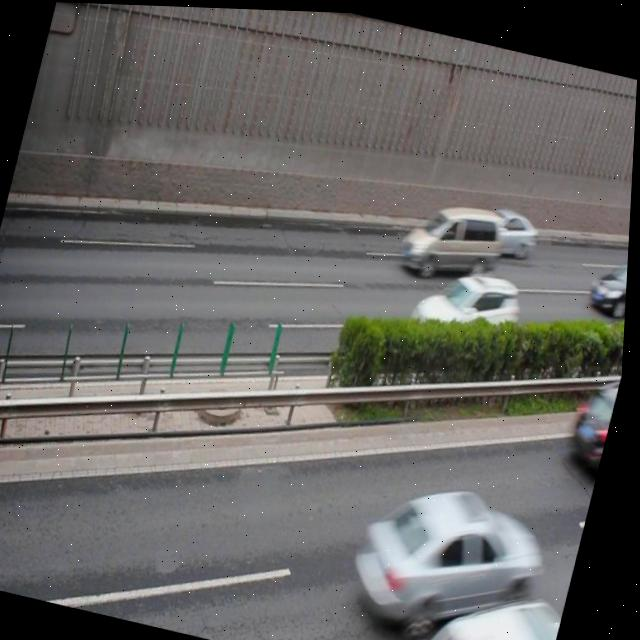car: (344, 465, 554, 640), (406, 256, 528, 362), (416, 574, 571, 640), (478, 198, 545, 260), (587, 245, 631, 315)
truck: (397, 187, 511, 286)
